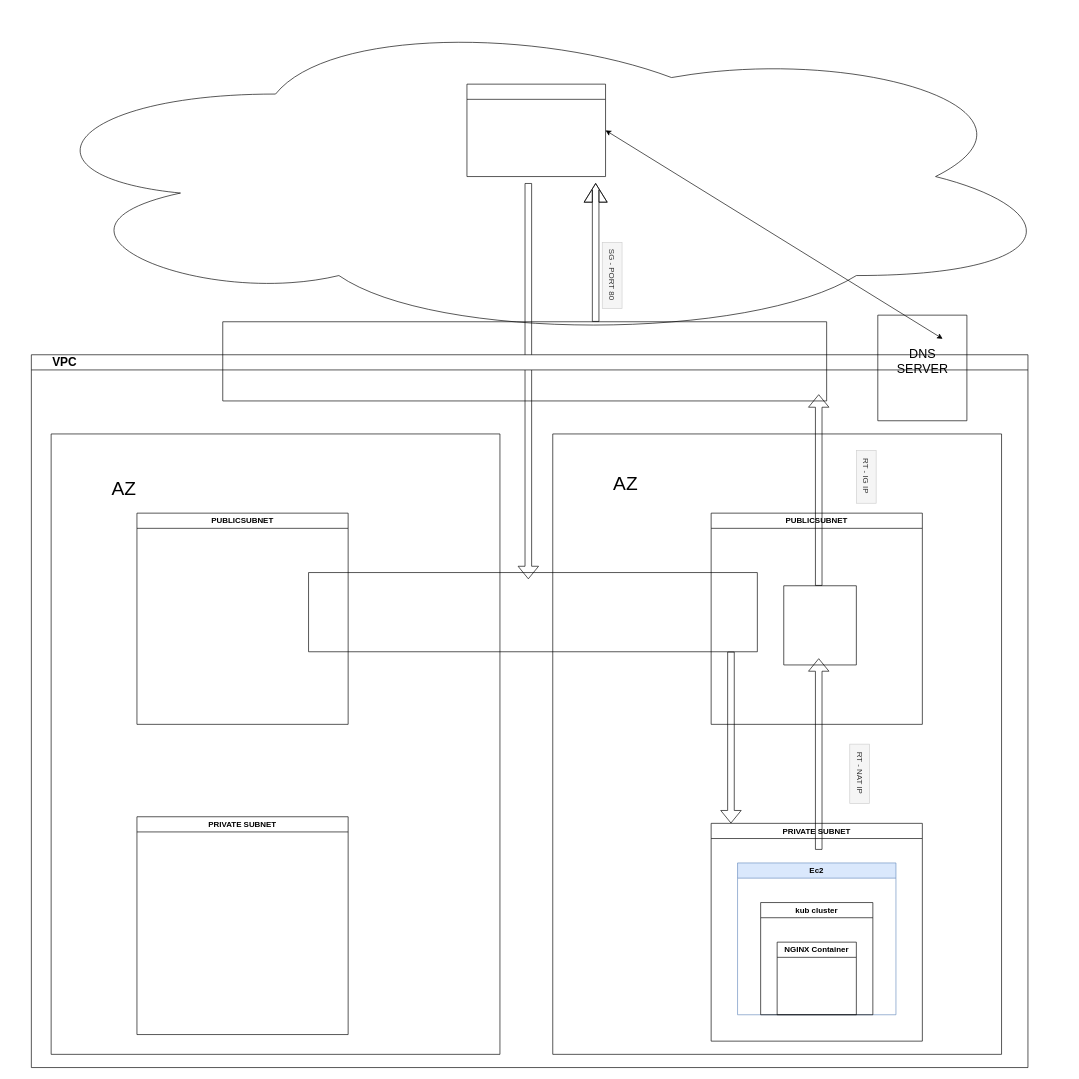
This 1079x1079 diagram has some shape labels left out. Each missing label, with the box of its shape:
HTTP: (466, 83, 606, 177)
IG: (222, 321, 827, 401)
LB: (308, 572, 757, 652)
NAT: (783, 585, 856, 665)
